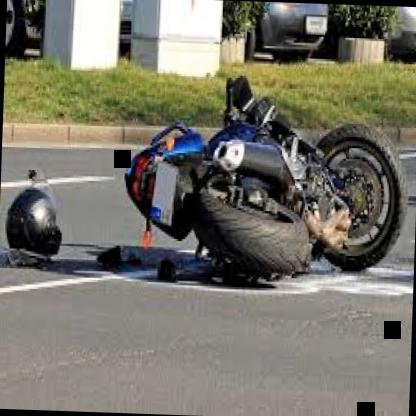accident: (80, 57, 416, 324)
